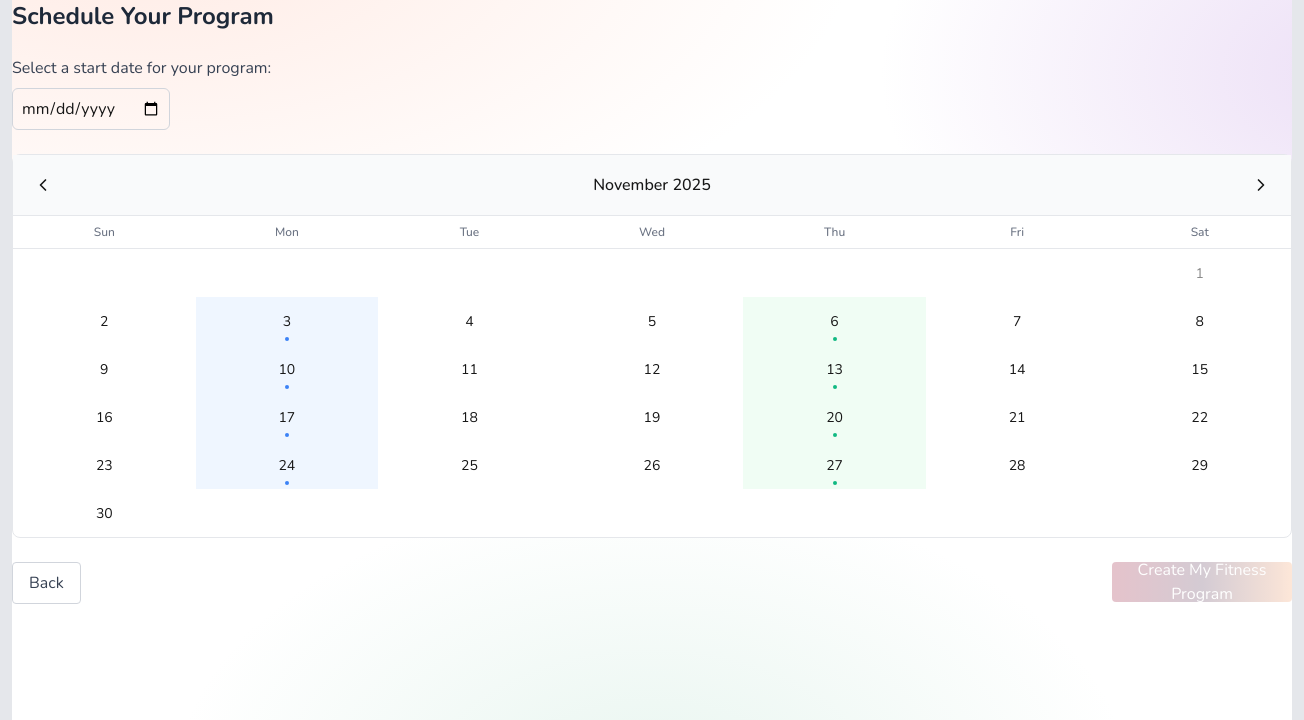
Test: CalendarView › enables Create Program button when date is selected
The width and height of the screenshot is (1304, 720).
Type "2024-12-25" into the date field.
click(91, 109); type("2024-12-25")  # box [12, 88, 170, 130]
(page scrolled)
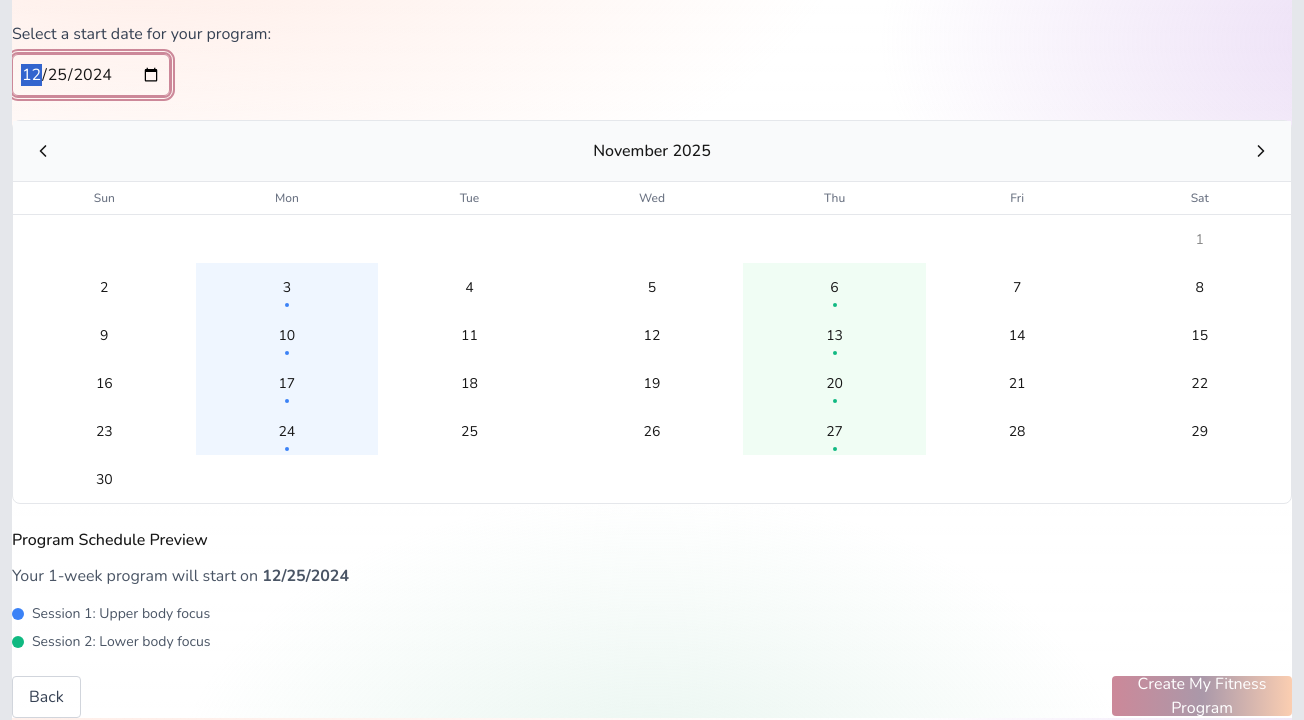
expect the button "Create My Fitness Program" is enabled: met, box [1112, 676, 1292, 716]
